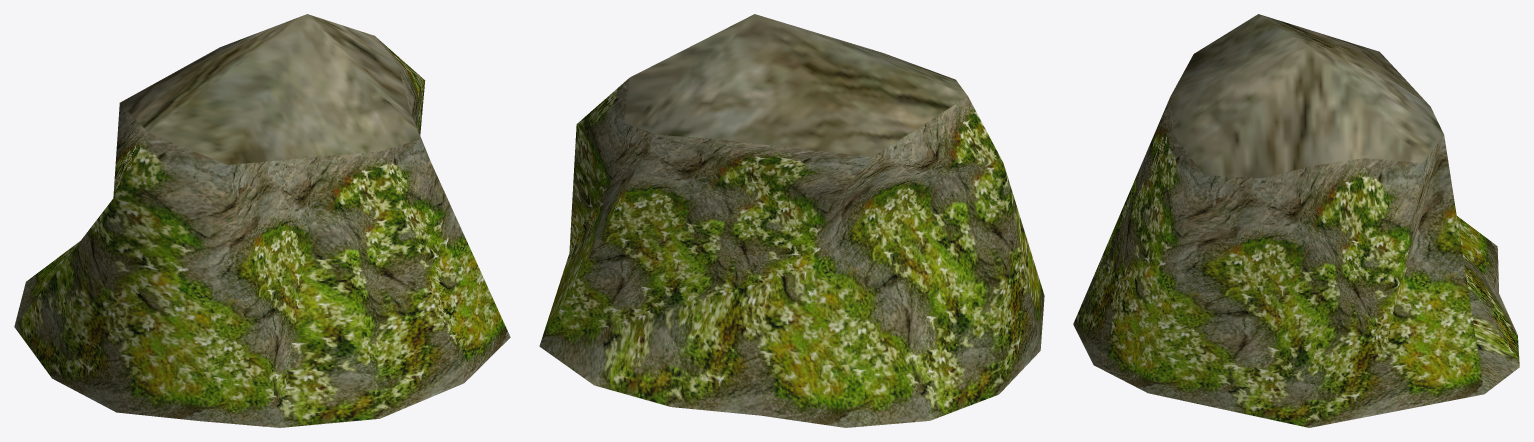
File: rock_liaaba_covered_l3.fbx
3 renders of one model, left to right at view 1: azimuth 30°, elevation 25°; view 2: azimuth 150°, elevation 25°; view 3: azimuth 270°, elevation 25°, orthographic. The views are drawn at different scales.
Visible parts, largest first — view 1: mesh_node; view 2: mesh_node; view 3: mesh_node.
Boxes of the visible parts, x1,y1,x2,y2 form: mesh_node: (14, 14, 510, 427); mesh_node: (539, 14, 1044, 427); mesh_node: (1073, 14, 1519, 427).
Size of the model in its own units: 3.4 by 2.41 by 3.21.
Materials: 1 (1 with a texture image).
